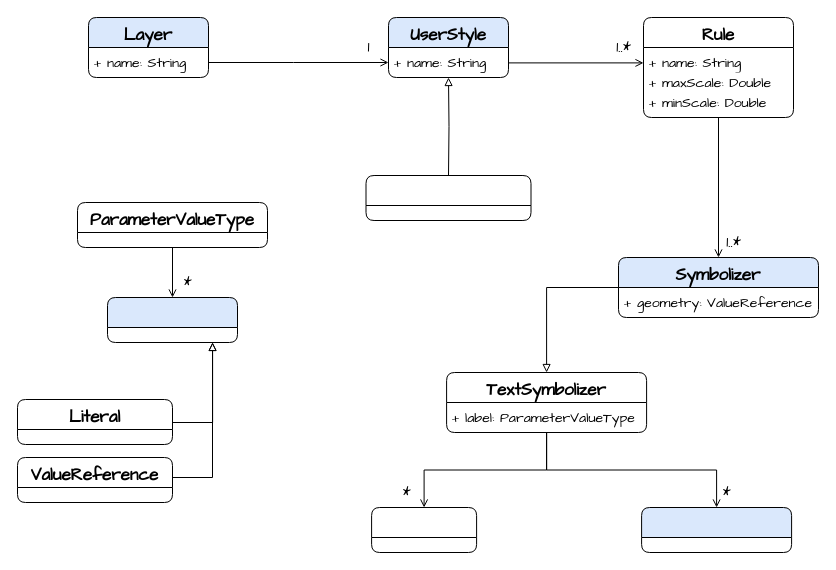
This 836x570 diagram has some shape labels left out. The shapes that lost their labels are listed below. From the top down, each one's centre as x and y in pixels, then its label:
(x=448, y=197): FeatureTypeStyle
(x=172, y=319): Expression
(x=424, y=529): Font
(x=716, y=529): LabelPlacement
